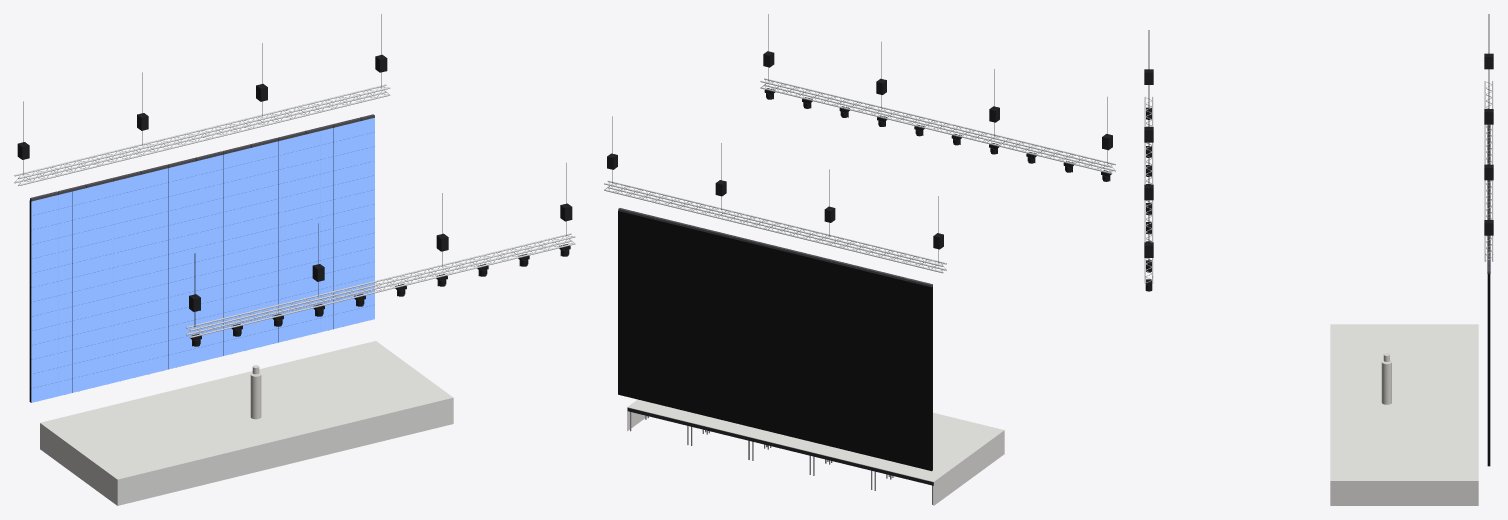
File: minimal-keynote.glb
3 views of the same model, side by side, from view 1: azimuth 30°, elevation 25°; view 2: azimuth 150°, elevation 25°; view 3: azimuth 270°, elevation 25° (orthographic). The views are drawn at different scales.
Parts seen in each view (by area): view 1: FASCIA.FRONT, FASCIA.SL, DECK.R02C04, DECK.R01C02, DECK.R03C04, DECK.R02C02, DECK.R03C01, DECK.R04C01, DECK.R04C02, DECK.R01C04, DECK.R01C05, DECK.R03C02 (+18 smaller); view 2: FASCIA.SL, DECK.R01C01, DECK.R04C01, DECK.R04C02, DECK.R04C04, DECK.R04C05, DECK.R04C03, DECK.R02C01, TRUSS.HDR_MAIN.S03, TRUSS.HDR_MAIN.S04, TRUSS.HDR_MAIN.S01, TRUSS.FOH.S03 (+4 smaller); view 3: FASCIA.SR, DECK.R01C04, DECK.R02C04, DECK.R03C04, DECK.R04C04, DECK.R01C01, DECK.R01C03, DECK.R01C05, DECK.R02C05, DECK.R03C01, DECK.R03C03, DECK.R03C05 (+10 smaller).
Part boxes in pixels (box(x1,y1,x2,y2)): FASCIA.FRONT: box(117, 397, 453, 505); FASCIA.SL: box(40, 423, 117, 505); DECK.R02C04: box(280, 385, 366, 415); DECK.R01C02: box(166, 432, 251, 462); DECK.R03C04: box(261, 371, 346, 401); DECK.R02C02: box(146, 418, 231, 448); DECK.R03C01: box(60, 420, 145, 450); DECK.R04C01: box(40, 406, 126, 436); DECK.R04C02: box(107, 390, 193, 420); DECK.R01C04: box(300, 400, 385, 430); DECK.R01C05: box(367, 383, 452, 413); DECK.R03C02: box(127, 404, 212, 434); FASCIA.SL: box(933, 430, 1004, 505); DECK.R01C01: box(933, 415, 1003, 442); DECK.R04C01: box(872, 459, 950, 485); DECK.R04C02: box(811, 444, 882, 470); DECK.R04C04: box(688, 414, 759, 440); DECK.R04C05: box(627, 399, 698, 425); DECK.R04C03: box(750, 429, 820, 455); DECK.R02C01: box(933, 430, 985, 455); TRUSS.HDR_MAIN.S03: box(717, 208, 795, 236); TRUSS.HDR_MAIN.S04: box(641, 189, 720, 217); TRUSS.HDR_MAIN.S01: box(867, 245, 946, 273); TRUSS.FOH.S03: box(886, 109, 964, 137); FASCIA.SR: box(1330, 480, 1478, 505); DECK.R01C04: box(1330, 418, 1367, 449); DECK.R02C04: box(1367, 418, 1404, 449); DECK.R03C04: box(1404, 418, 1441, 449); DECK.R04C04: box(1441, 418, 1478, 449); DECK.R01C01: box(1330, 324, 1367, 355); DECK.R01C03: box(1330, 387, 1367, 418); DECK.R01C05: box(1330, 449, 1367, 480); DECK.R02C05: box(1367, 449, 1404, 480); DECK.R03C01: box(1404, 324, 1441, 355); DECK.R03C03: box(1404, 387, 1441, 418); DECK.R03C05: box(1404, 449, 1441, 480).
Size of the model in its own units: 14.01 by 12.03 by 11.52.
